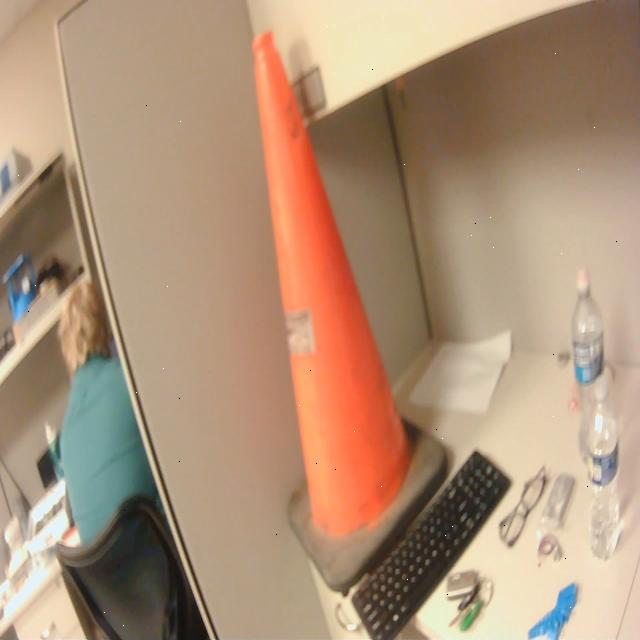traffic cone: (249, 23, 453, 601)
